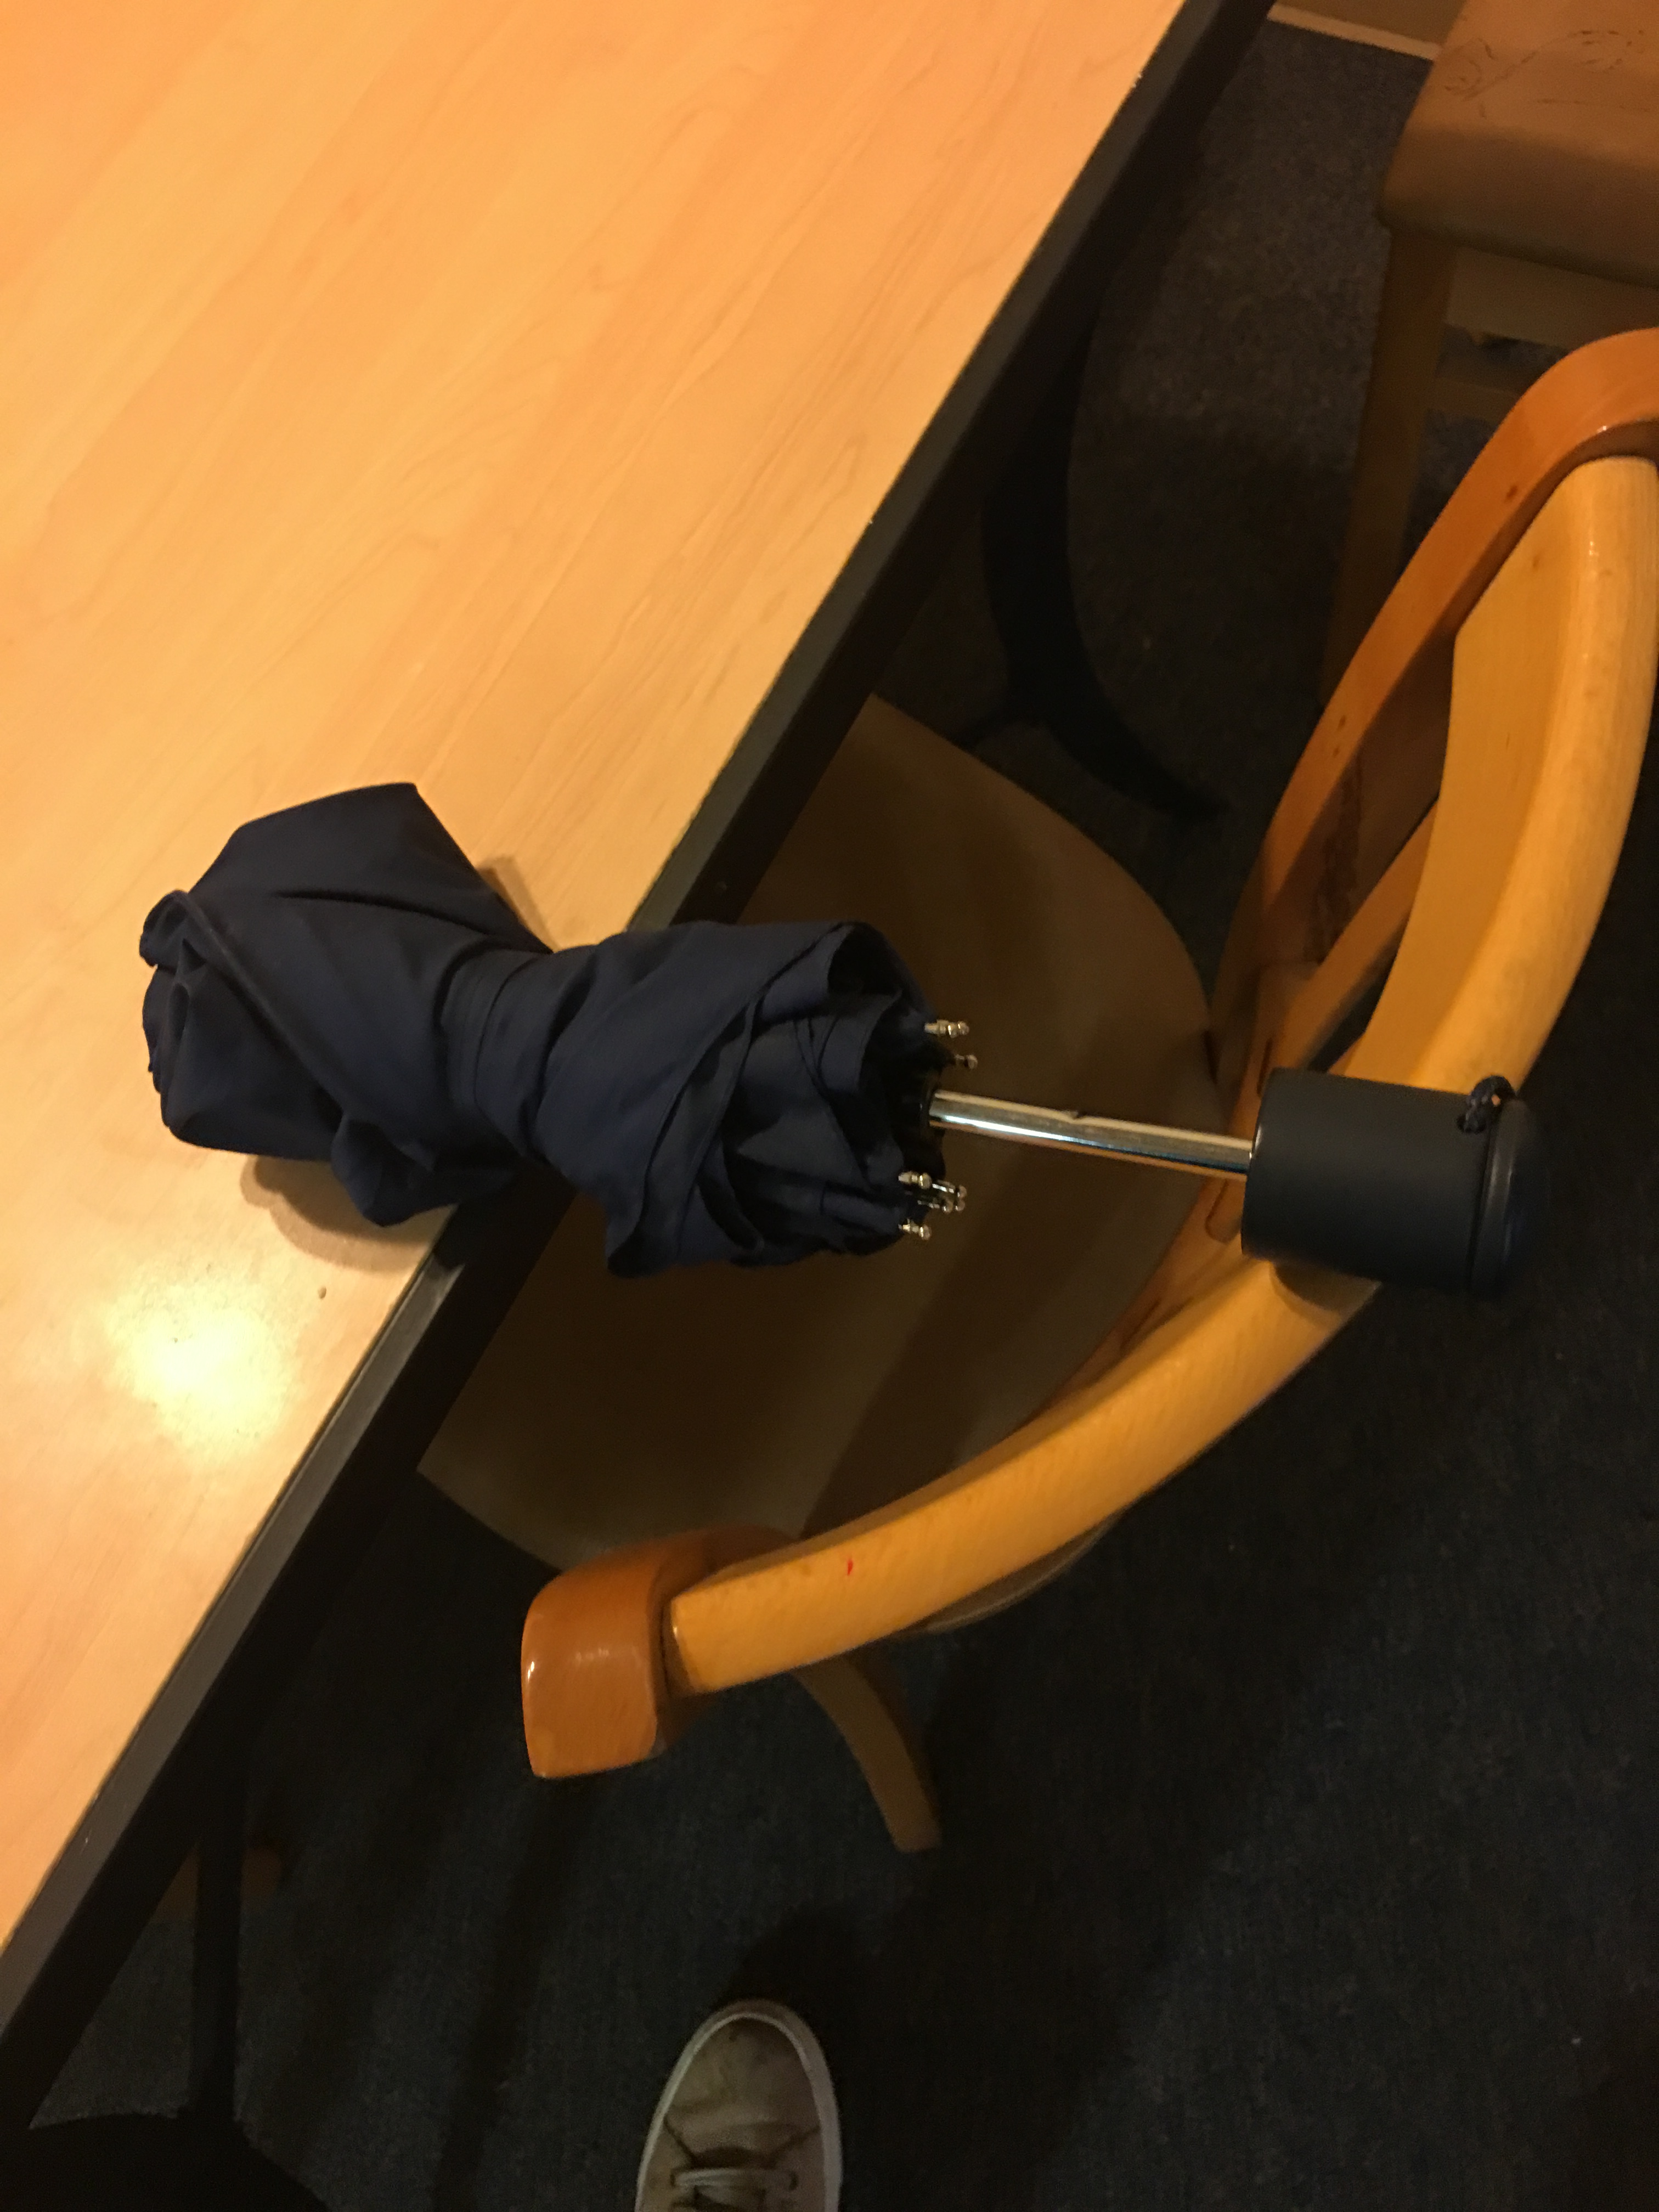Umbrella: (117, 779, 1556, 1303)
